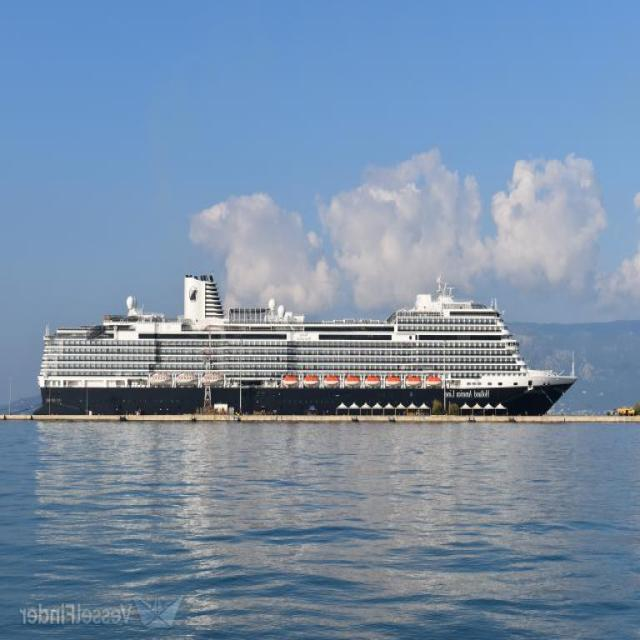PassengerShip: (40, 245, 548, 443)
